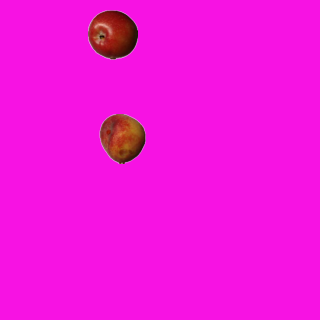Apple Braeburn: (87, 9, 137, 59)
Peach: (97, 113, 147, 163)
